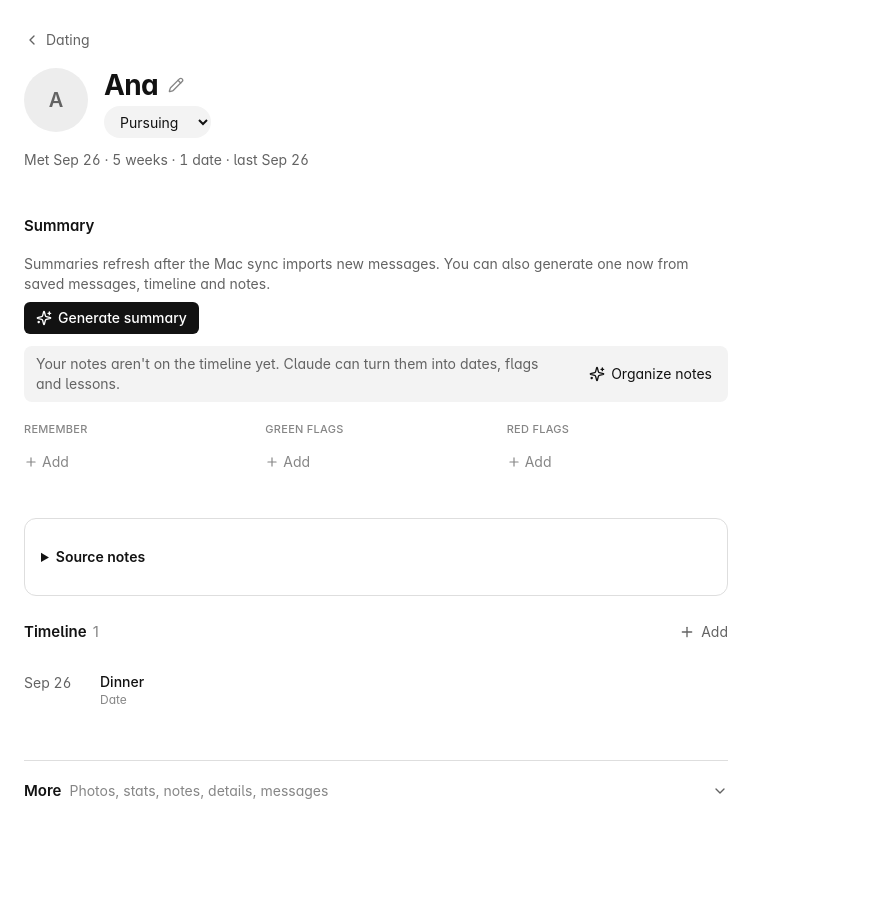
Test: dating request recovery › keeps an existing moment after deletion fails and permits retry
This screenshot has width=873, height=900.
Click the button "Sep 26 Dinner date" at [48, 682], box x1=16 y1=664 x2=736 y2=716
(page scrolled)
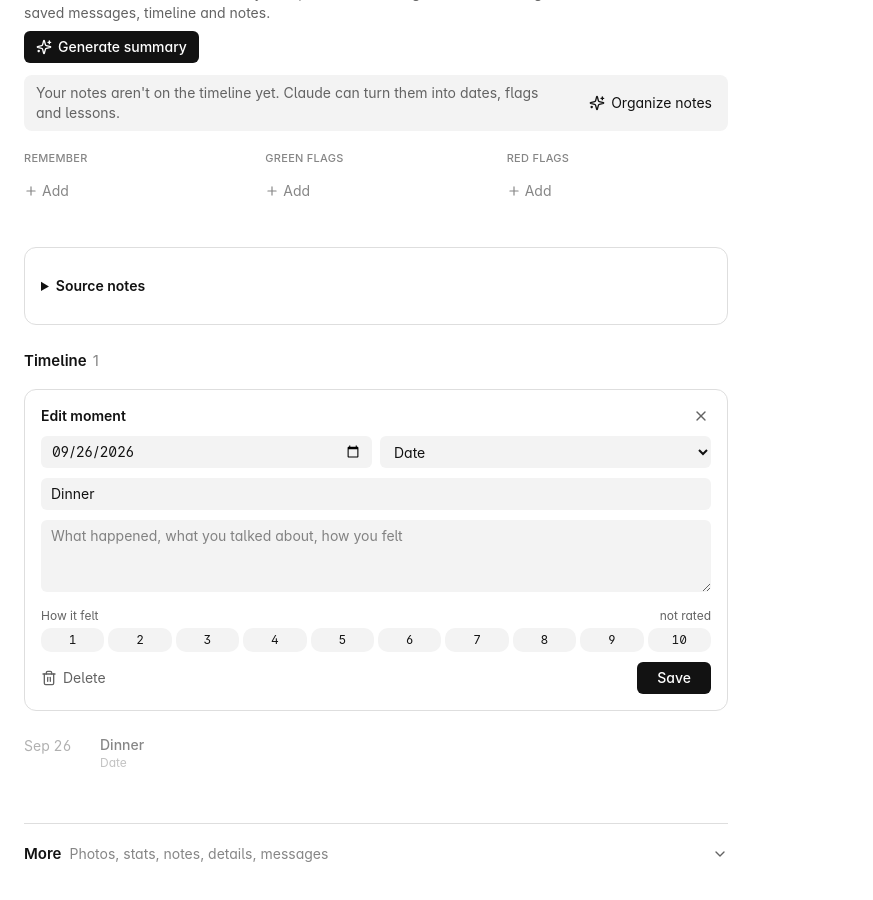
Click the button "Delete" at [73, 678], box x1=31 y1=662 x2=116 y2=694
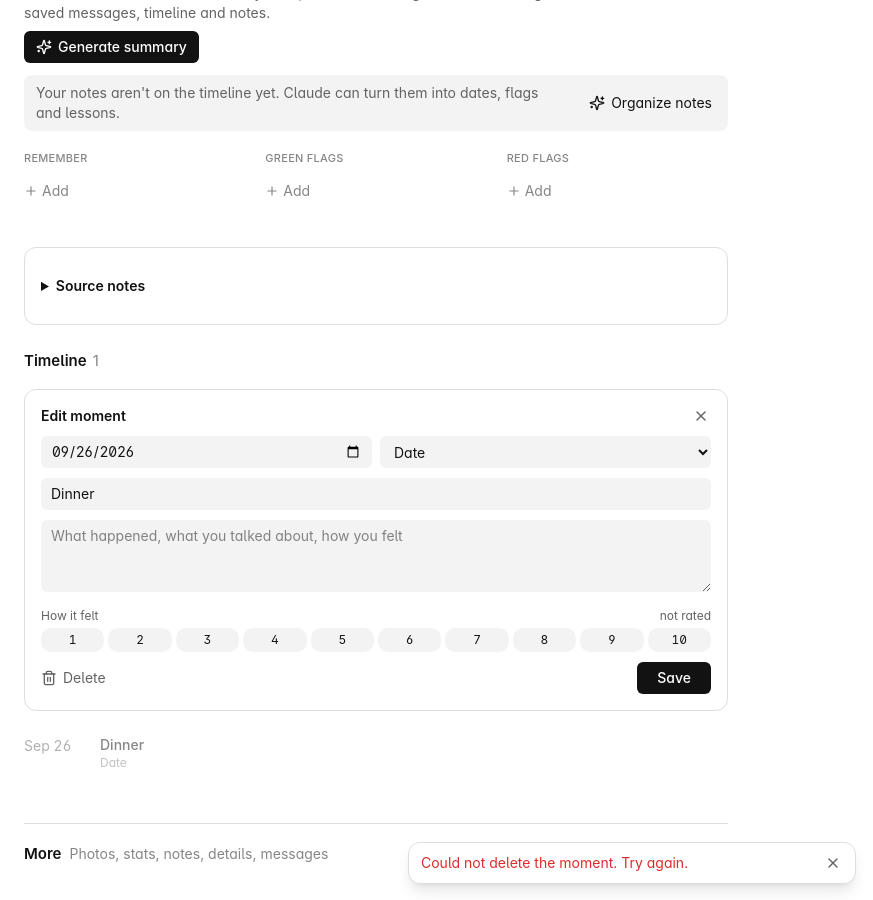
Expected: the list shows "Dinner", x1=16 y1=727 x2=736 y2=779
Expected: the button "Delete" is enabled
Expected: the message "Could not delete the moment. Try again." is shown, x1=408 y1=842 x2=856 y2=884
Click the button "Delete" at [73, 678], box x1=31 y1=662 x2=116 y2=694
(page scrolled)
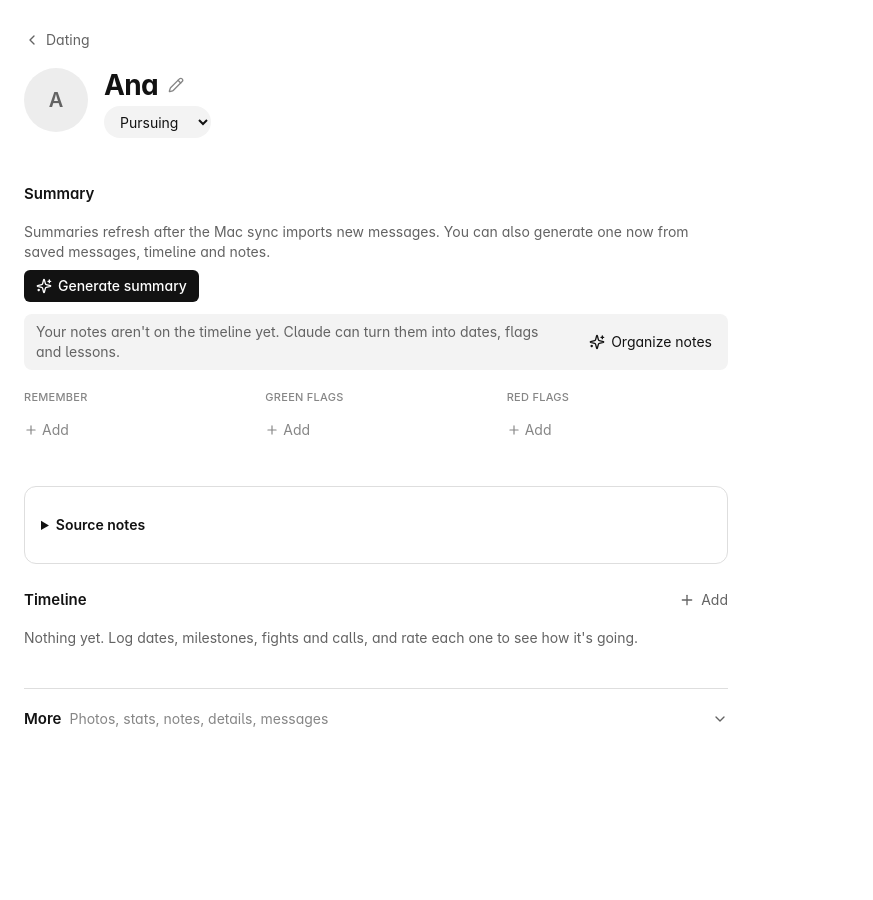
Expected: the list is gone
Expected: the form is gone
